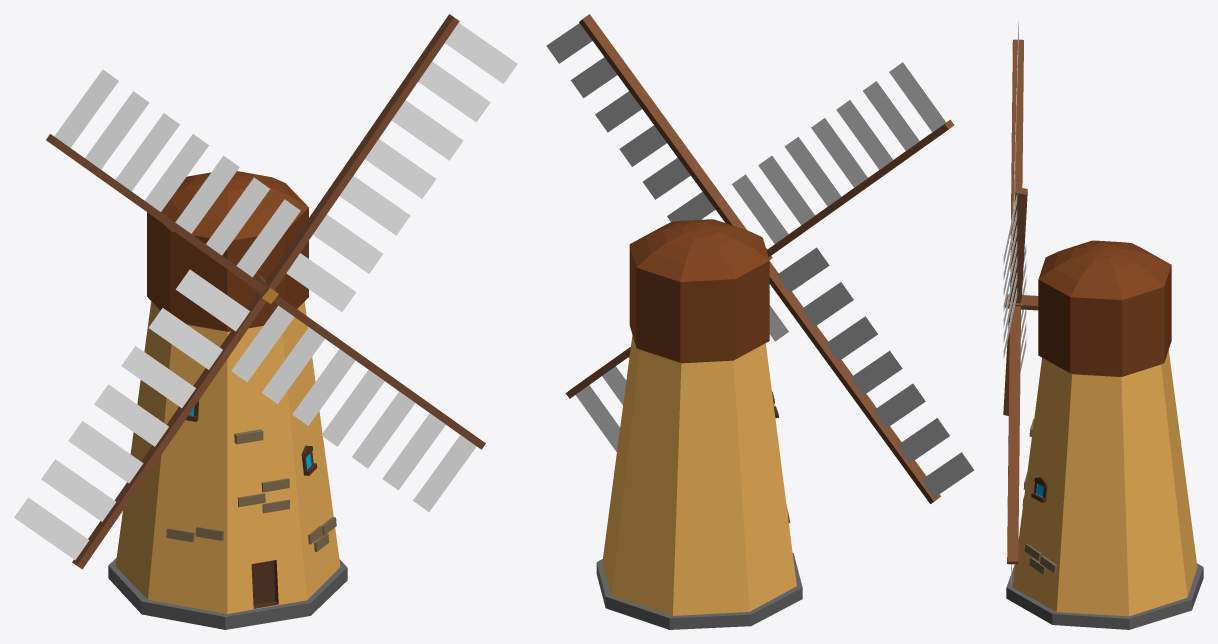
The model's file is windmill.fbx.
The picture shows the model from 3 angles, left to right: view 1: azimuth 30°, elevation 25°; view 2: azimuth 150°, elevation 25°; view 3: azimuth 270°, elevation 25°; orthographic projection. The views are drawn at different scales.
Visible parts, largest first — view 1: Cylinder, Oil_Tank, Cube_1, Cube_2, Tube, Cube_16, Cube_15, Cube_14, Cube_13, Cube_12_2, Cube_11_2, Cube_10_2 (+22 smaller); view 2: Cylinder, Oil_Tank, Cube_1, Tube, Cube_2, Cube_30, Cube_29, Cube_28, Cube_27, Cube_26, Cube_25, Cube_24 (+14 smaller); view 3: Cylinder, Oil_Tank, Cube_2, Tube, Cube_1, Cube.
Part boxes in pixels (box(x1,y1,x2,y2)): Cylinder: box(115, 301, 340, 613); Oil_Tank: box(147, 171, 308, 331); Cube_1: box(72, 14, 459, 569); Cube_2: box(46, 134, 485, 449); Tube: box(108, 558, 347, 629); Cube_16: box(14, 497, 89, 560); Cube_15: box(41, 459, 115, 521); Cube_14: box(68, 421, 143, 483); Cube_13: box(94, 384, 168, 446); Cube_12_2: box(121, 346, 195, 407); Cube_11_2: box(148, 308, 222, 369); Cube_10_2: box(175, 269, 249, 331); Cylinder: box(602, 335, 796, 615); Oil_Tank: box(629, 219, 769, 363); Cube_1: box(579, 14, 940, 503); Tube: box(596, 553, 802, 629); Cube_2: box(566, 119, 953, 398); Cube_30: box(889, 62, 946, 132); Cube_29: box(863, 81, 919, 150); Cube_28: box(836, 100, 893, 169); Cube_27: box(811, 118, 867, 187); Cube_26: box(784, 136, 841, 206); Cube_25: box(758, 155, 815, 225); Cube_24: box(732, 174, 788, 243); Cylinder: box(1012, 350, 1197, 616); Oil_Tank: box(1038, 240, 1171, 376); Cube_2: box(1007, 39, 1023, 564); Tube: box(1006, 563, 1203, 629); Cube_1: box(1003, 187, 1027, 415); Cube: box(1005, 294, 1038, 310).
Size of the model in its own units: 251 by 289 by 105.
